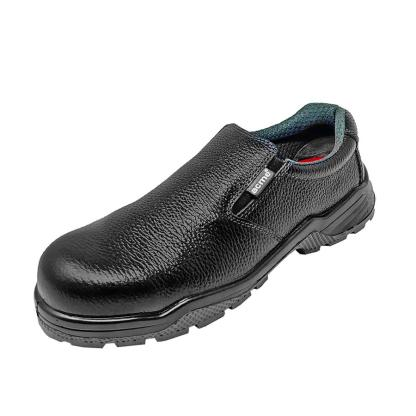bota: (29, 99, 379, 352)
